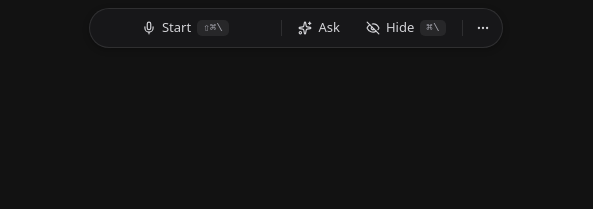
Test: HUDContainer › Start goes live, and Stop returns to idle
What coordinates should you click on to do the following:
click the button with aria-label "Start listening"
I would click on:
 (186, 28)
Its box is x1=94 y1=12 x2=278 y2=44.
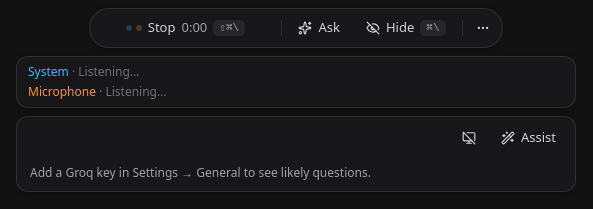
Check: the button with aria-label "Stop listening" shows "0:00"
What coordinates should you click on to do the following:
click the button with aria-label "Stop listening"
I would click on:
 (186, 28)
Its box is x1=94 y1=12 x2=278 y2=44.
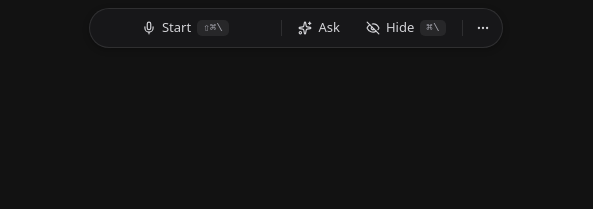
Check: the button with aria-label "Start listening" is shown, box x1=94 y1=12 x2=278 y2=44
